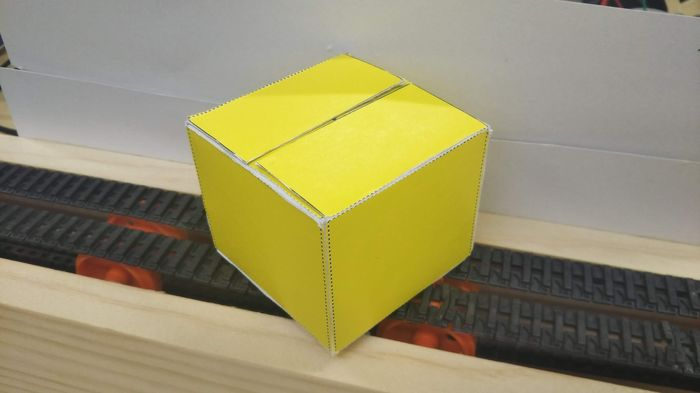box4: (182, 48, 490, 358)
